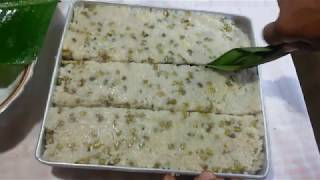kiribath: (41, 2, 266, 177)
